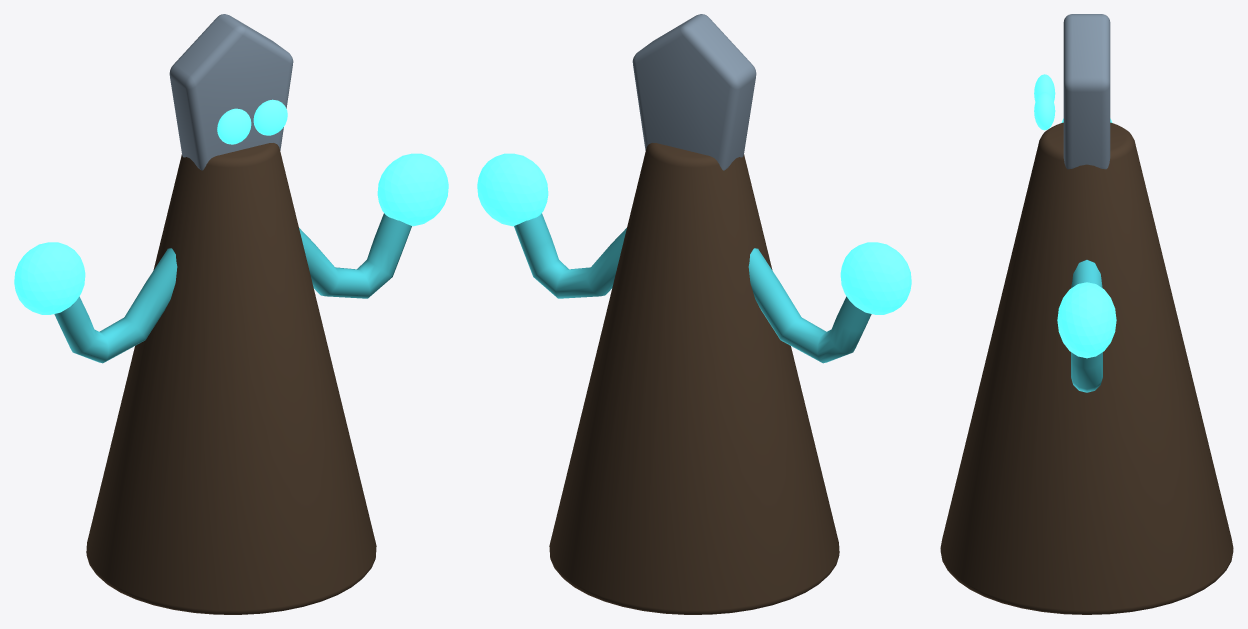
Rendered from humanoid_v6.glb.
3 views of the same model, side by side, from view 1: azimuth 30°, elevation 25°; view 2: azimuth 150°, elevation 25°; view 3: azimuth 270°, elevation 25° (orthographic).
Parts seen in each view (by area): view 1: OCCULT_ROBE_SECONDARY, OCCULT_MASK_PRIMARY, OCCULT_ARM_ACCENT, OCCULT_ARM_ACCENT.001, OCCULT_ORB_EMISSIVE, OCCULT_ORB_EMISSIVE.001, EYE_EMISSIVE, EYE_EMISSIVE.001; view 2: OCCULT_ROBE_SECONDARY, OCCULT_MASK_PRIMARY, OCCULT_ARM_ACCENT, OCCULT_ARM_ACCENT.001, OCCULT_ORB_EMISSIVE, OCCULT_ORB_EMISSIVE.001; view 3: OCCULT_ROBE_SECONDARY, OCCULT_MASK_PRIMARY, OCCULT_ORB_EMISSIVE.001, OCCULT_ARM_ACCENT.001, EYE_EMISSIVE.001.
Part boxes in pixels (left/top/right/bottom): OCCULT_ROBE_SECONDARY: left=86, top=143, right=376, bottom=614; OCCULT_MASK_PRIMARY: left=169, top=14, right=293, bottom=170; OCCULT_ARM_ACCENT: left=54, top=248, right=177, bottom=363; OCCULT_ARM_ACCENT.001: left=299, top=213, right=411, bottom=298; OCCULT_ORB_EMISSIVE: left=14, top=242, right=85, bottom=314; OCCULT_ORB_EMISSIVE.001: left=377, top=153, right=448, bottom=226; EYE_EMISSIVE: left=217, top=108, right=251, bottom=144; EYE_EMISSIVE.001: left=253, top=99, right=287, bottom=135; OCCULT_ROBE_SECONDARY: left=549, top=143, right=839, bottom=614; OCCULT_MASK_PRIMARY: left=632, top=14, right=756, bottom=170; OCCULT_ARM_ACCENT: left=748, top=248, right=871, bottom=363; OCCULT_ARM_ACCENT.001: left=514, top=213, right=626, bottom=298; OCCULT_ORB_EMISSIVE: left=840, top=242, right=911, bottom=314; OCCULT_ORB_EMISSIVE.001: left=477, top=153, right=548, bottom=226; OCCULT_ROBE_SECONDARY: left=940, top=122, right=1233, bottom=614; OCCULT_MASK_PRIMARY: left=1063, top=14, right=1110, bottom=169; OCCULT_ORB_EMISSIVE.001: left=1057, top=282, right=1116, bottom=358; OCCULT_ARM_ACCENT.001: left=1071, top=260, right=1102, bottom=392; EYE_EMISSIVE.001: left=1034, top=92, right=1055, bottom=130.
Bounding box in the file's own units: 2.36 × 2.82 × 1.38.
